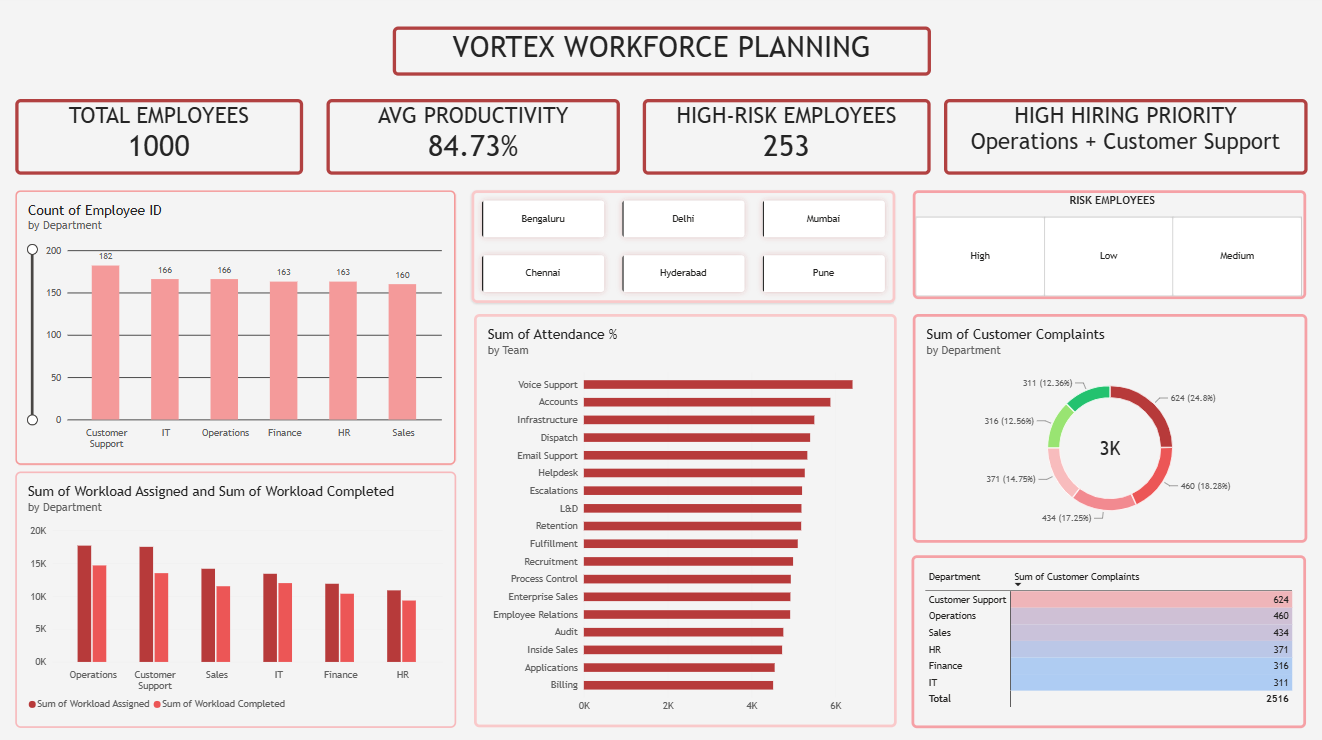

Layout of this report page (visuals, bound fields, positions):
{"tool":"powerbi","page":{"name":"Page 1","canvas":[1920,1080],"ordinal":0},"visuals":[{"type":"columnChart","fields":{"Category":["Raw_Workforce_Data (2).Department"],"Y":["Count(Raw_Workforce_Data (2).Employee ID)"]},"box":[24,284,637.5,397.5],"z":0},{"type":"textbox","box":[569.5,46.2,779.2,71.2],"z":2000},{"type":"textbox","box":[24.2,152.4,416.4,109.7],"z":3000},{"type":"textbox","box":[931.1,152,416.4,109.7],"z":4000},{"type":"textbox","box":[473.3,152,425.2,109.7],"z":5000},{"type":"textbox","box":[1368.2,152.4,526.1,109.7],"z":6000},{"type":"donutChart","fields":{"Category":["Raw_Workforce_Data (2).Department"],"Y":["Sum(Raw_Workforce_Data (2).Customer Complaints)"]},"box":[1323.6,463.6,571.4,330.9],"z":7000},{"type":"lineClusteredColumnComboChart","fields":{"Category":["Raw_Workforce_Data (2).Department"],"Y":["Sum(Raw_Workforce_Data (2).Workload Assigned)","Sum(Raw_Workforce_Data (2).Workload Completed)"]},"box":[23.1,690.7,638.7,371.3],"z":8000},{"type":"pivotTable","fields":{"Rows":["Raw_Workforce_Data (2).Department"],"Values":["Sum(Raw_Workforce_Data (2).Customer Complaints)"]},"box":[1321.7,811.9,571.4,250.1],"z":9000},{"type":"barChart","fields":{"Category":["Raw_Workforce_Data (2).Team"],"Y":["Sum(Raw_Workforce_Data (2).Attendance %)"]},"box":[686.8,463.6,611.8,598.3],"z":9001},{"type":"advancedSlicerVisual","fields":{"Values":["Raw_Workforce_Data (2).Location"]},"box":[684.9,284.7,613.7,163.5],"z":9002},{"type":"advancedSlicerVisual","title":"RISK EMPLOYEES","fields":{"Values":["Raw_Workforce_Data (2).Resignation Risk"]},"box":[1323.6,284.7,569.5,157.8],"z":9003}]}

Visuals, with their boxes in screenshot pixels (x1, y1, x2, y2), scaled from the page's 1920x1080 canvas onto the 1322x740 screenshot:
columnChart - Raw_Workforce_Data (2).Department x Count(Raw_Workforce_Data (2).Employee ID): 17:195:455:467
textbox: 392:32:929:80
textbox: 17:104:303:180
textbox: 641:104:928:179
textbox: 326:104:619:179
textbox: 942:104:1304:180
donutChart - Raw_Workforce_Data (2).Department x Sum(Raw_Workforce_Data (2).Customer Complaints): 911:318:1305:544
lineClusteredColumnComboChart - Raw_Workforce_Data (2).Department x Sum(Raw_Workforce_Data (2).Workload Assigned): 16:473:456:728
pivotTable - Raw_Workforce_Data (2).Department x Sum(Raw_Workforce_Data (2).Customer Complaints): 910:556:1303:728
barChart - Raw_Workforce_Data (2).Team x Sum(Raw_Workforce_Data (2).Attendance %): 473:318:894:728
advancedSlicerVisual - Raw_Workforce_Data (2).Location: 472:195:894:307
"RISK EMPLOYEES" advancedSlicerVisual: 911:195:1303:303
